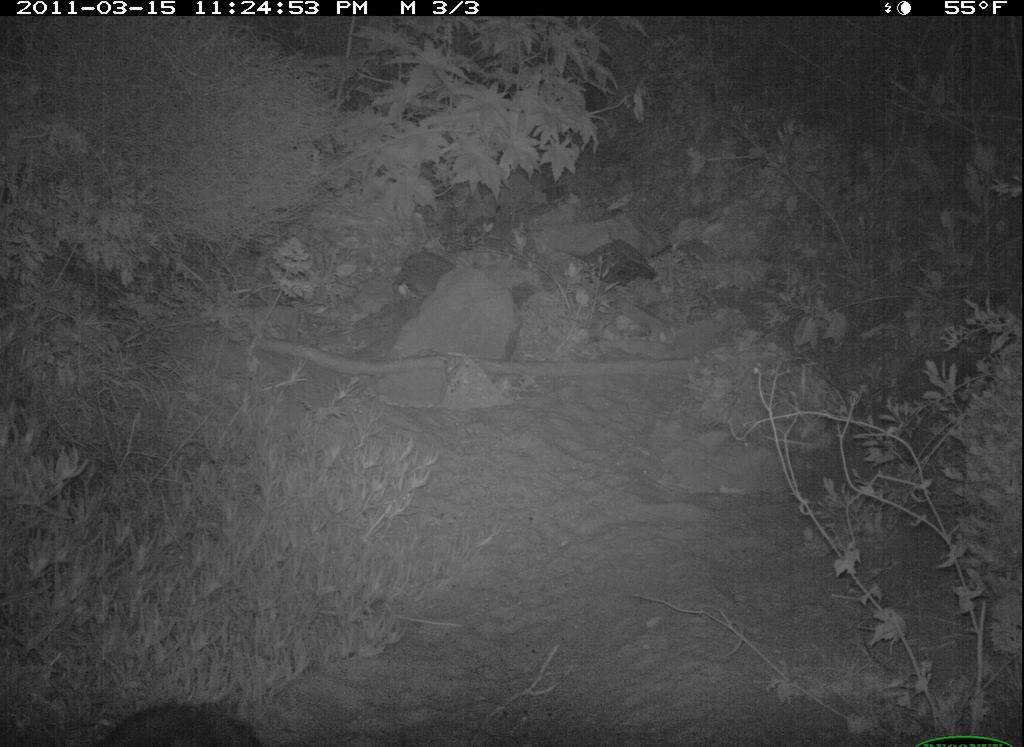raccoon: (82, 692, 280, 747)
